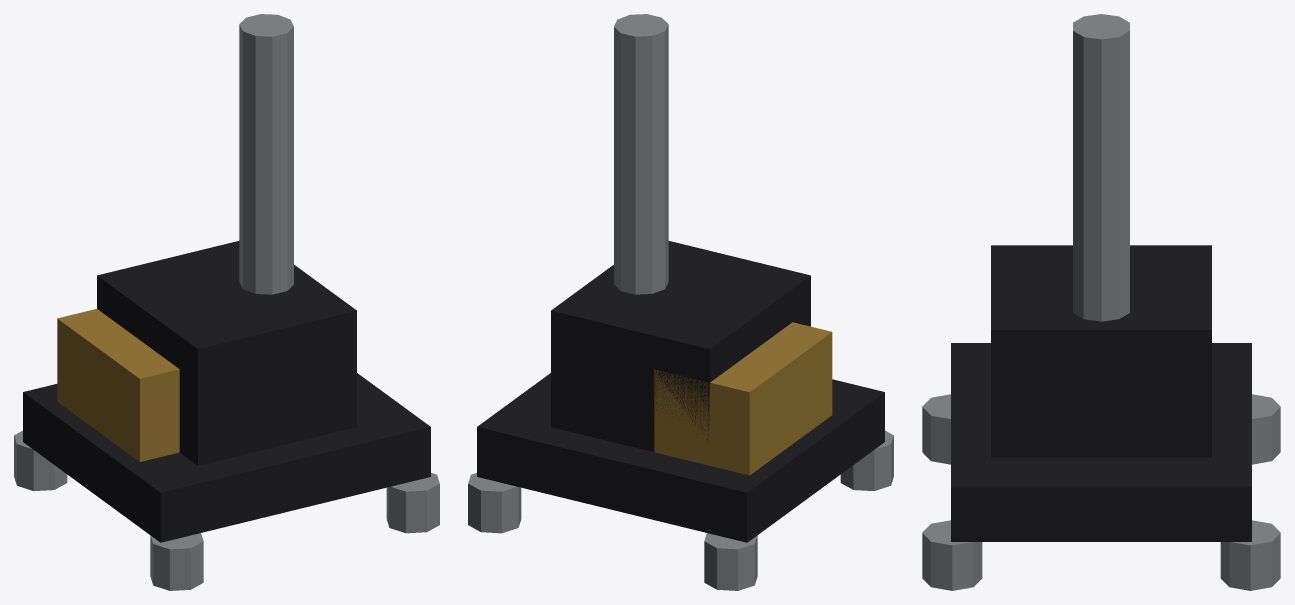
File: heat-probe.glb
3 views of the same model, side by side, from view 1: azimuth 30°, elevation 25°; view 2: azimuth 150°, elevation 25°; view 3: azimuth 270°, elevation 25° (orthographic). The views are drawn at different scales.
Visible parts, largest first — view 1: insight-heat-probe; view 2: insight-heat-probe; view 3: insight-heat-probe.
Boxes of the visible parts, x1,y1,x2,y2 form: insight-heat-probe: [14, 14, 439, 590]; insight-heat-probe: [468, 14, 893, 590]; insight-heat-probe: [922, 14, 1280, 590].
Bounding box in the file's own units: 0.357 × 0.56 × 0.357.
